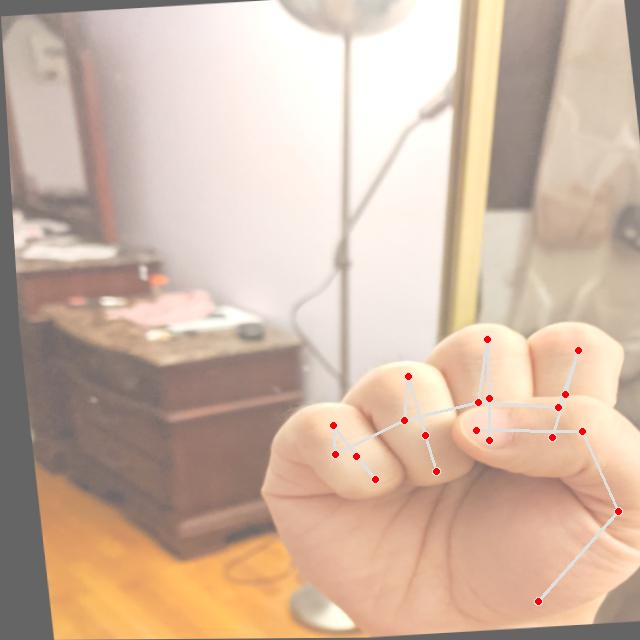S: (224, 309, 639, 638)
